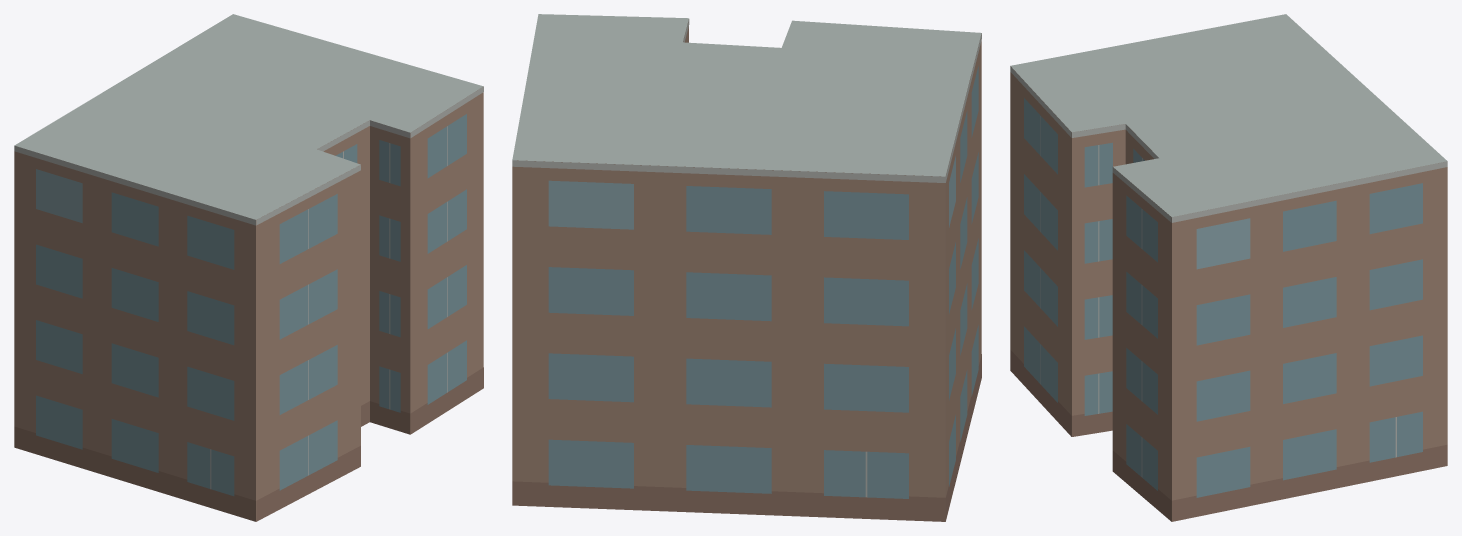
The model's file is survey-upis-32736486.glb.
3 renders of one model, left to right at view 1: azimuth 30°, elevation 25°; view 2: azimuth 150°, elevation 25°; view 3: azimuth 270°, elevation 25°, orthographic. The views are drawn at different scales.
Parts seen in each view (by area): view 1: survey-upis-32736486.tmp; view 2: survey-upis-32736486.tmp; view 3: survey-upis-32736486.tmp.
Boxes of the visible parts, bbox=[...] form: survey-upis-32736486.tmp: bbox=[14, 14, 483, 521]; survey-upis-32736486.tmp: bbox=[512, 14, 981, 521]; survey-upis-32736486.tmp: bbox=[1010, 14, 1447, 521].
Bounding box in the file's own units: 18.46 × 12.9 × 16.79.
